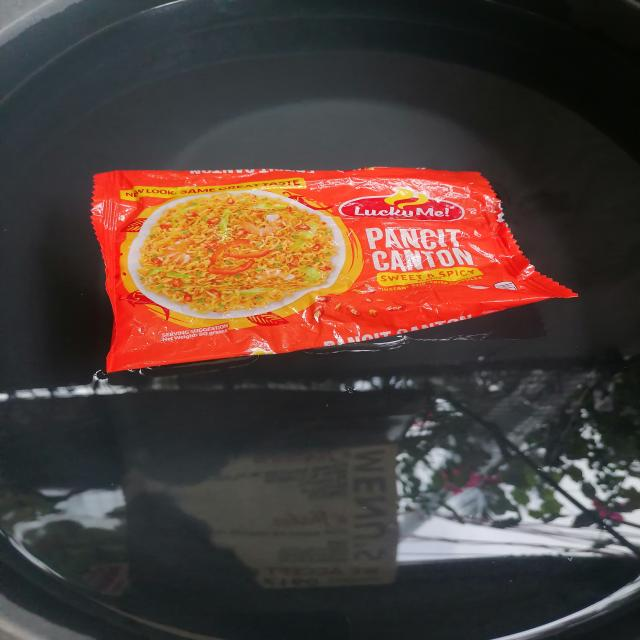Plastic Wrapper: (90, 167, 578, 372)
